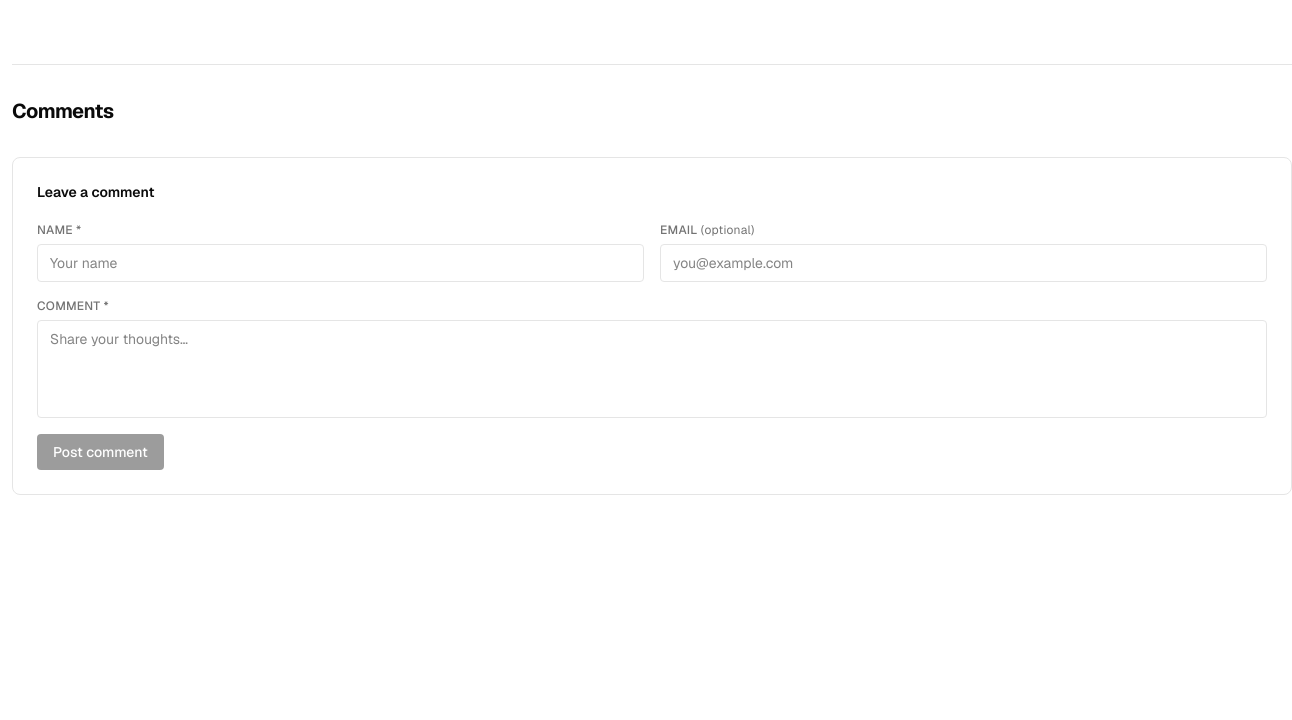
Scenario: CommentSection › form submission › submits comment and appends it to the list on success
In the field with placeholder "Your name": coordinates (340, 263) x1=37 y1=244 x2=644 y2=282, type "Bob"
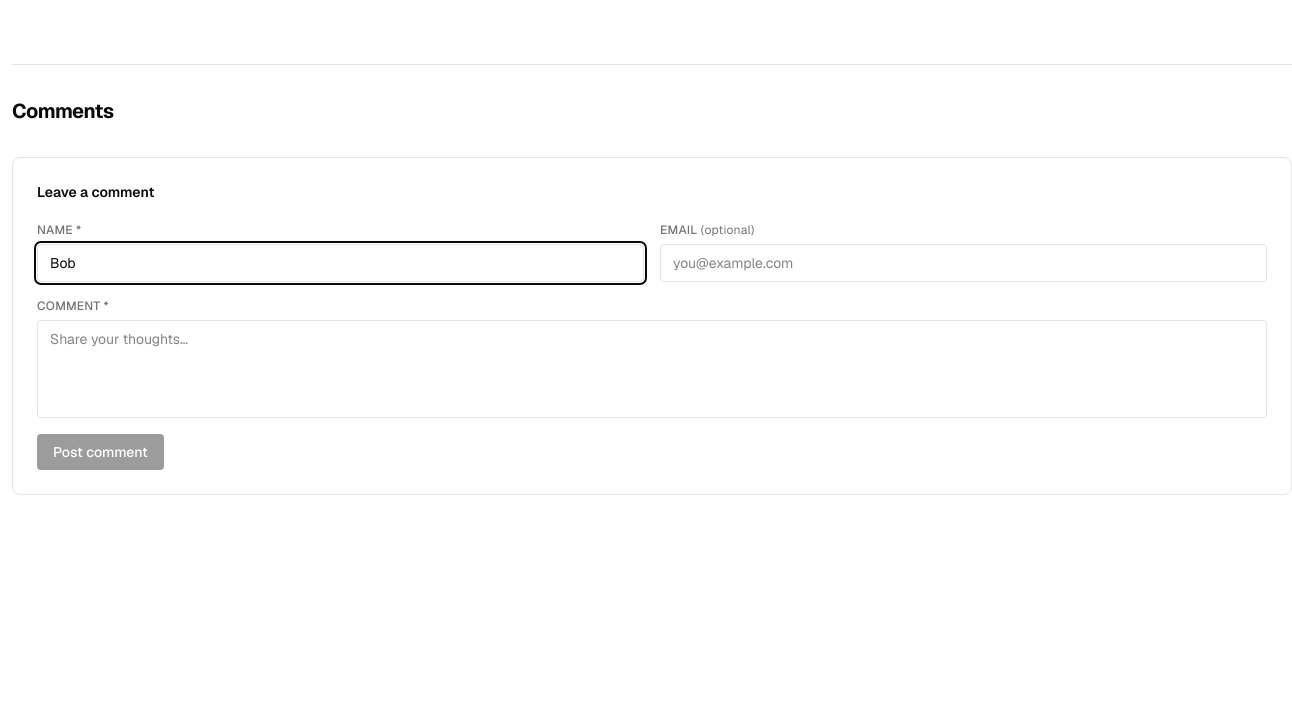
In the text box with placeholder "Share your thoughts…": coordinates (652, 369) x1=37 y1=320 x2=1267 y2=418, type "Nice article"
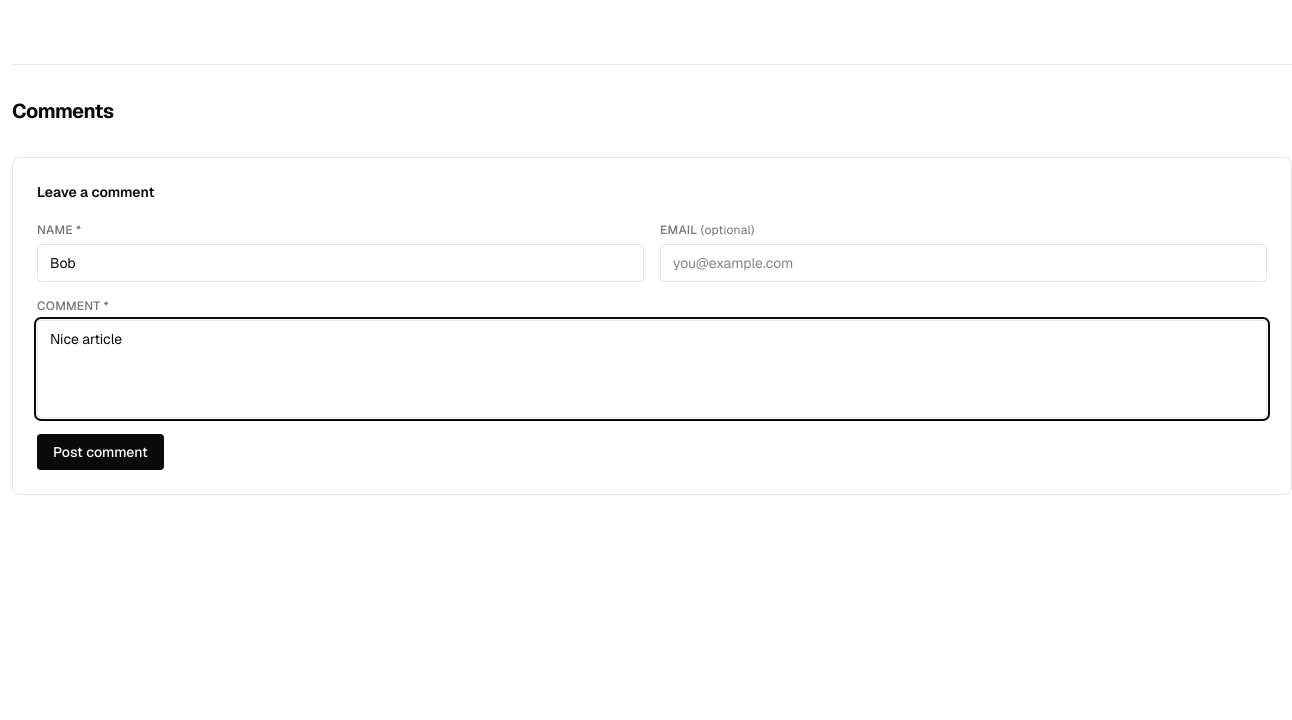
Click the button "Post comment": coordinates (100, 452) x1=37 y1=434 x2=164 y2=470
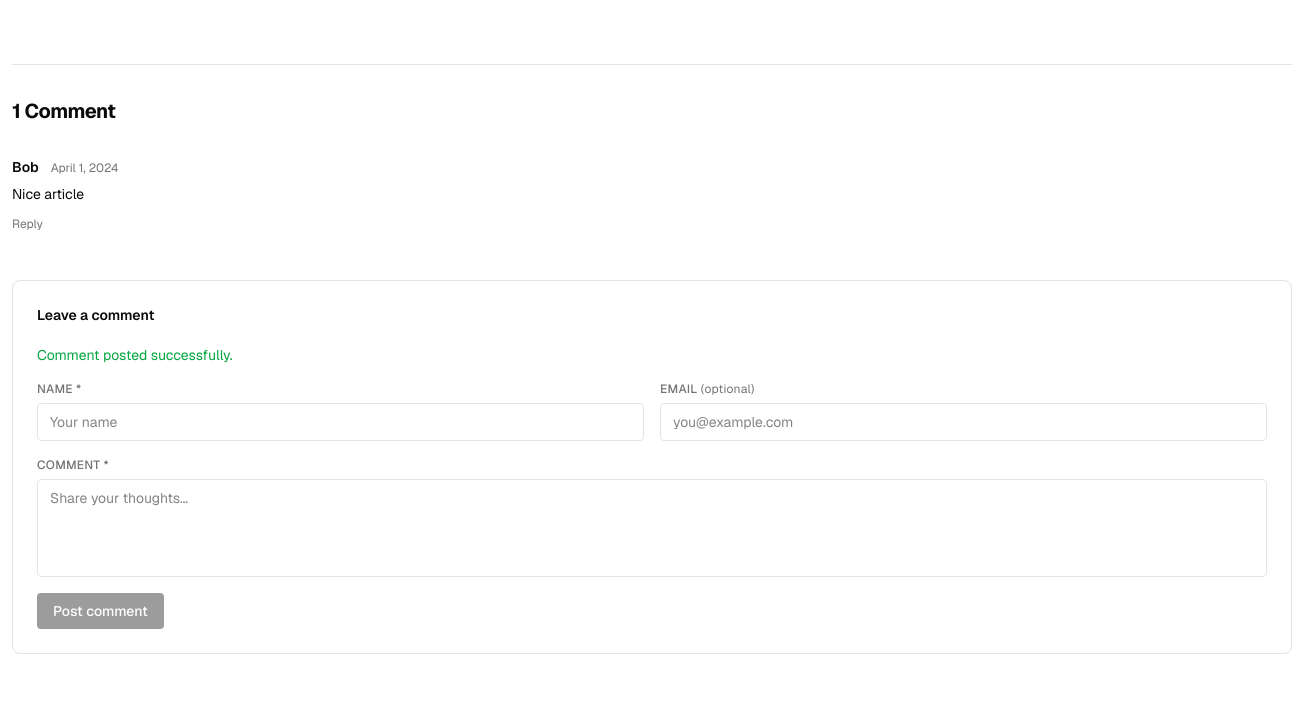
Expected: the text "Nice article" is shown, x1=12 y1=185 x2=84 y2=203
